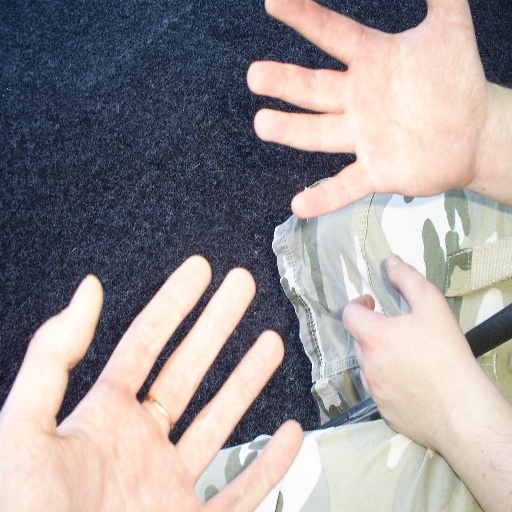hand: (0, 254, 303, 511), (245, 0, 487, 218), (338, 247, 485, 451)
